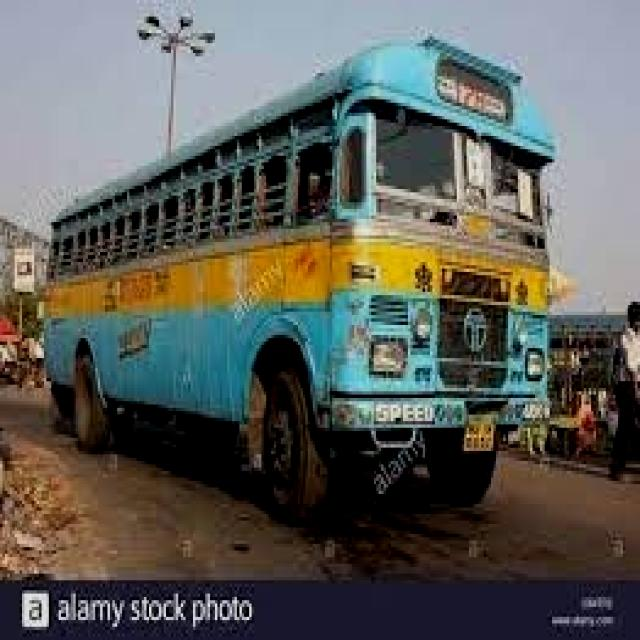bus: (18, 13, 564, 556)
